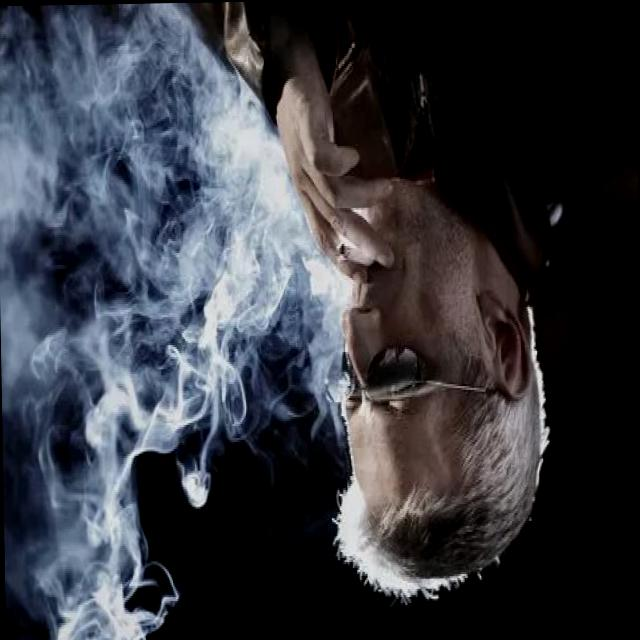smoke: (336, 239, 377, 272)
